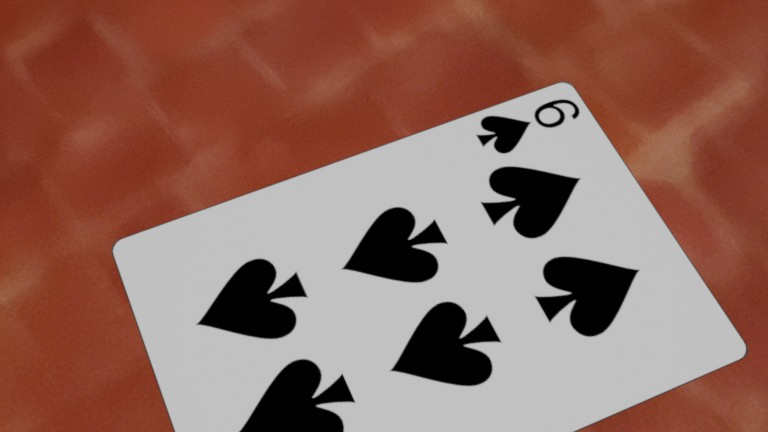6_of_spades: (186, 34, 237, 66)
